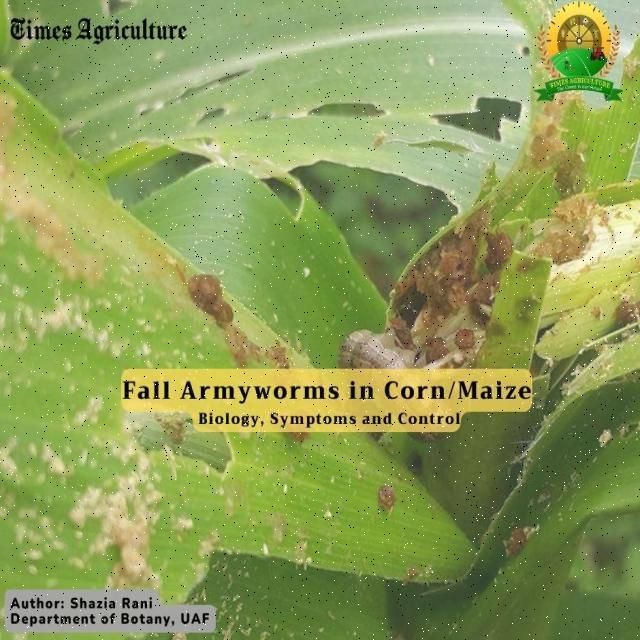army worm: (338, 210, 540, 392)
